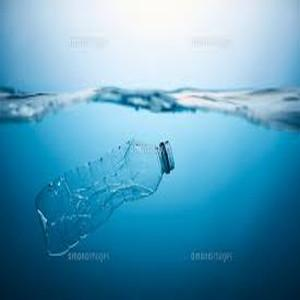Plastic: (34, 132, 177, 257)
